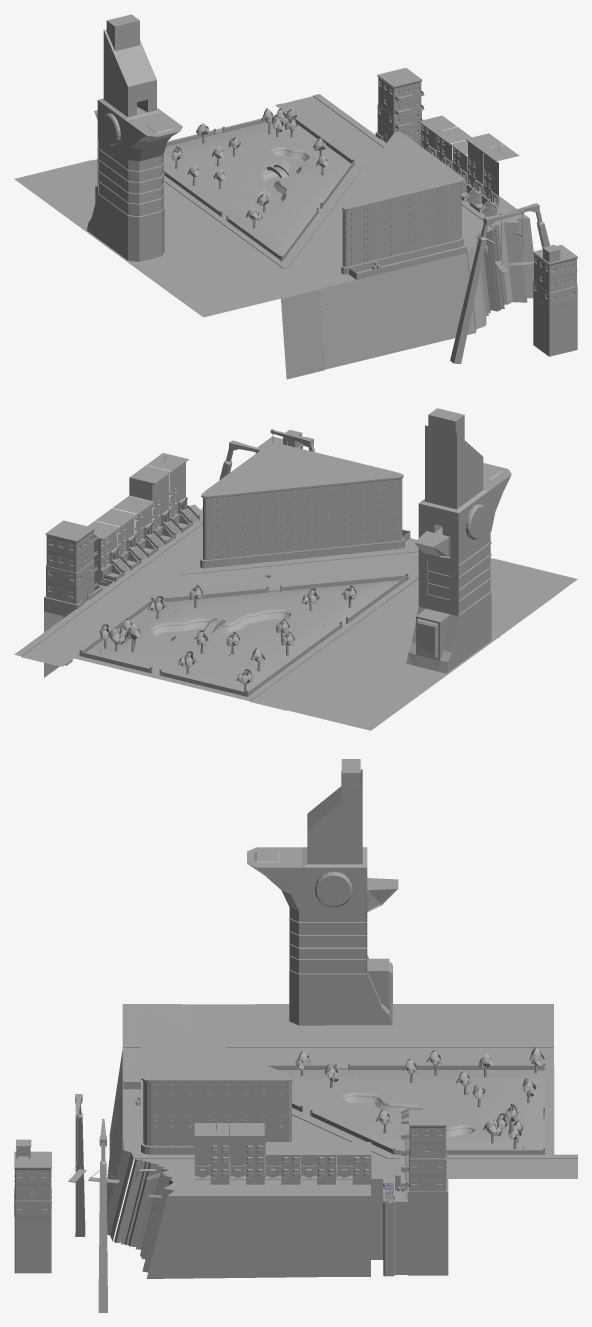
The model's file is map 1.fbx.
The picture shows the model from 3 angles, top to bottom: view 1: azimuth 30°, elevation 25°; view 2: azimuth 150°, elevation 25°; view 3: azimuth 270°, elevation 25°; orthographic projection. The views are drawn at different scales.
Visible parts, largest first — view 1: polySurface40, pCylinder30, polySurface24, polySurface49, pCube98, polySurface1, polySurface56, pCube111, pCube91, pCube92, pCube93, pCube66; view 2: polySurface40, polySurface24, pCylinder30, polySurface1, pCube98, pCube91, pCube92, pCube93, pCube67, pCube66, pCube65, polySurface58; view 3: polySurface40, pCylinder30, polySurface24, polySurface1, polySurface49, pCube98, polySurface58, pCube91, pCube93, pCube92, polySurface56, pCube66.
Boxes of the visible parts, x1,y1,x2,y2 form: polySurface40: (14,94,533,379); pCylinder30: (87,14,182,261); polySurface24: (341,132,464,274); polySurface49: (533,244,577,356); pCube98: (461,133,519,216); polySurface1: (375,68,422,146); polySurface56: (450,210,524,363); pCube111: (349,247,465,279); pCube91: (418,115,456,157); pCube92: (434,127,471,169); pCube93: (450,140,467,192); pCube66: (164,171,280,259); polySurface40: (14,504,577,730); polySurface24: (200,443,404,568); pCylinder30: (406,408,511,673); polySurface1: (44,520,107,677); pCube98: (129,453,199,544); pCube91: (88,521,131,581); pCube92: (95,508,148,569); pCube93: (113,496,165,556); pCube67: (153,575,405,602); pCube66: (248,576,406,695); pCube65: (81,652,245,696); polySurface58: (219,440,261,480); polySurface40: (106,1004,577,1278); pCylinder30: (247,759,398,1025); polySurface24: (141,1012,293,1154); polySurface1: (383,1109,448,1276); polySurface49: (14,1139,51,1273); pCube98: (194,1123,265,1184); polySurface58: (98,1119,107,1312); pCube91: (336,1142,371,1188); pCube93: (265,1142,300,1184); pCube92: (301,1142,336,1184); polySurface56: (75,1094,85,1236); pCube66: (267,1065,543,1070).
Size of the model in its own units: 251 by 211 by 299.
Materials: 2 (1 with a texture image).
